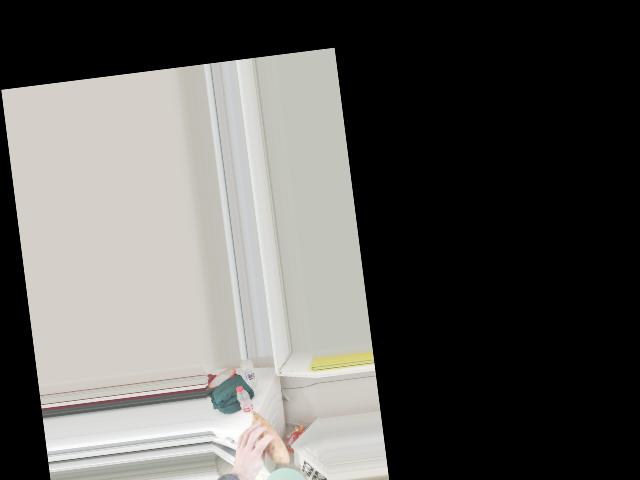sweet_potato: (241, 411, 287, 459)
